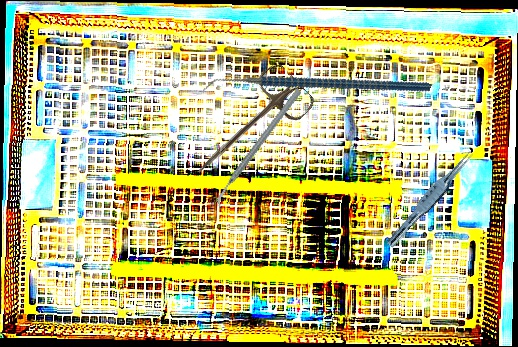Chopper: (199, 7, 432, 169), (186, 87, 332, 210)
Iris Scissors: (180, 59, 318, 196)
Tissue Forceps: (385, 145, 477, 253)
